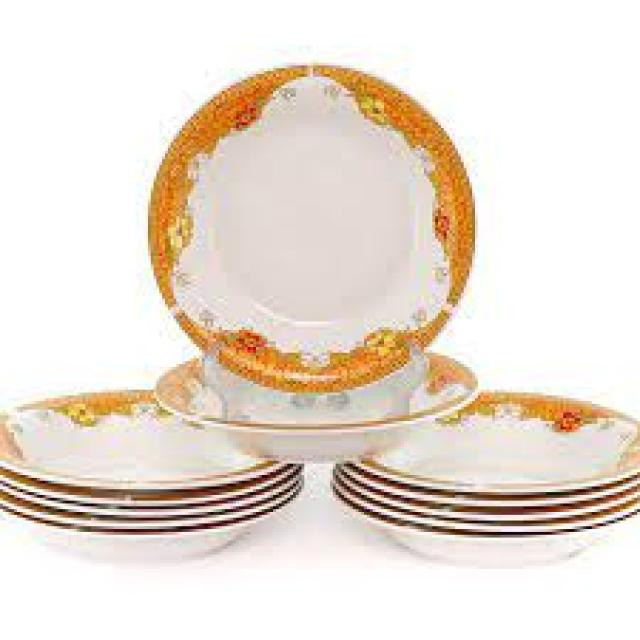Plate: (140, 55, 494, 400)
